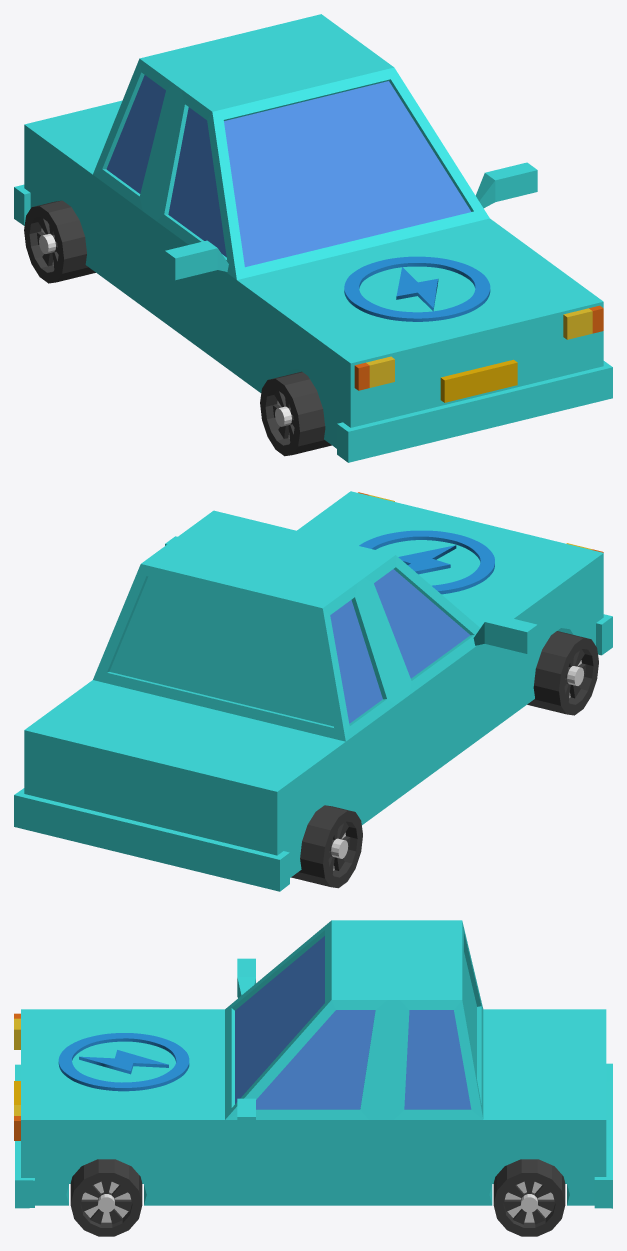
The model's file is electronic car.fbx.
The picture shows the model from 3 angles, top to bottom: view 1: azimuth 30°, elevation 25°; view 2: azimuth 150°, elevation 25°; view 3: azimuth 270°, elevation 25°; orthographic projection. The views are drawn at different scales.
Parts seen in each view (by area): view 1: car.006, Curve.005, Cylinder.092, Cylinder.093, Cube.262, Cube.263, Cube.264; view 2: car.006, Cylinder.092, Cylinder.093, Curve.005, Cube.262; view 3: car.006, Cylinder.092, Cylinder.093, Curve.005, Cube.262, Cube.263.
Boxes of the visible parts, x1,y1,x2,y2 form: car.006: [14, 14, 612, 462]; Curve.005: [344, 256, 490, 321]; Cylinder.092: [260, 371, 331, 456]; Cylinder.093: [24, 200, 95, 283]; Cube.262: [165, 162, 537, 280]; Cube.263: [354, 305, 603, 390]; Cube.264: [440, 359, 517, 402]; car.006: [14, 491, 612, 891]; Cylinder.092: [527, 631, 598, 715]; Cylinder.093: [291, 805, 362, 888]; Curve.005: [359, 530, 494, 594]; Cube.262: [165, 536, 537, 653]; car.006: [15, 920, 612, 1208]; Cylinder.092: [70, 1159, 142, 1236]; Cylinder.093: [493, 1159, 565, 1236]; Curve.005: [58, 1033, 189, 1091]; Cube.262: [237, 958, 255, 1136]; Cube.263: [14, 1013, 20, 1140].
Size of the model in its own units: 205 by 127 by 327.
